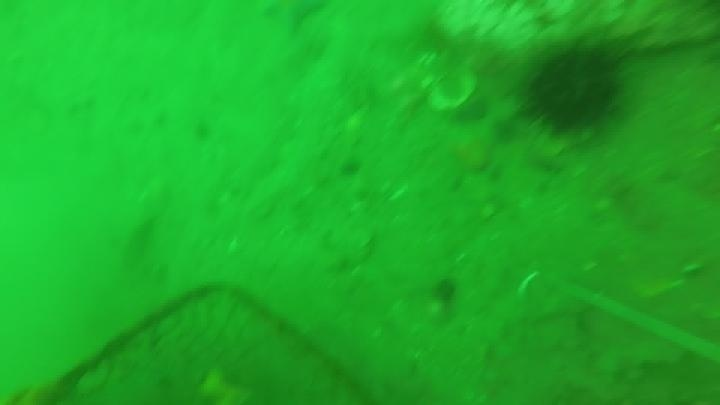echinus: (522, 43, 626, 137)
starfish: (259, 1, 330, 36)
